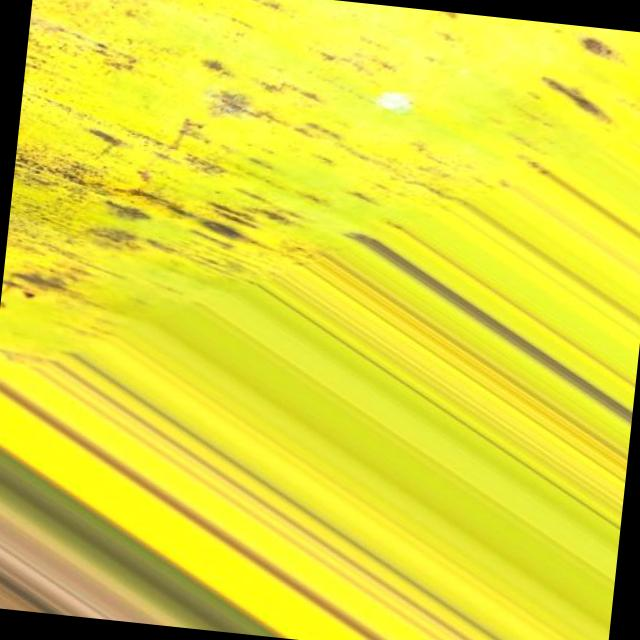Banana_Black_Sigatoka: (0, 0, 328, 347)
